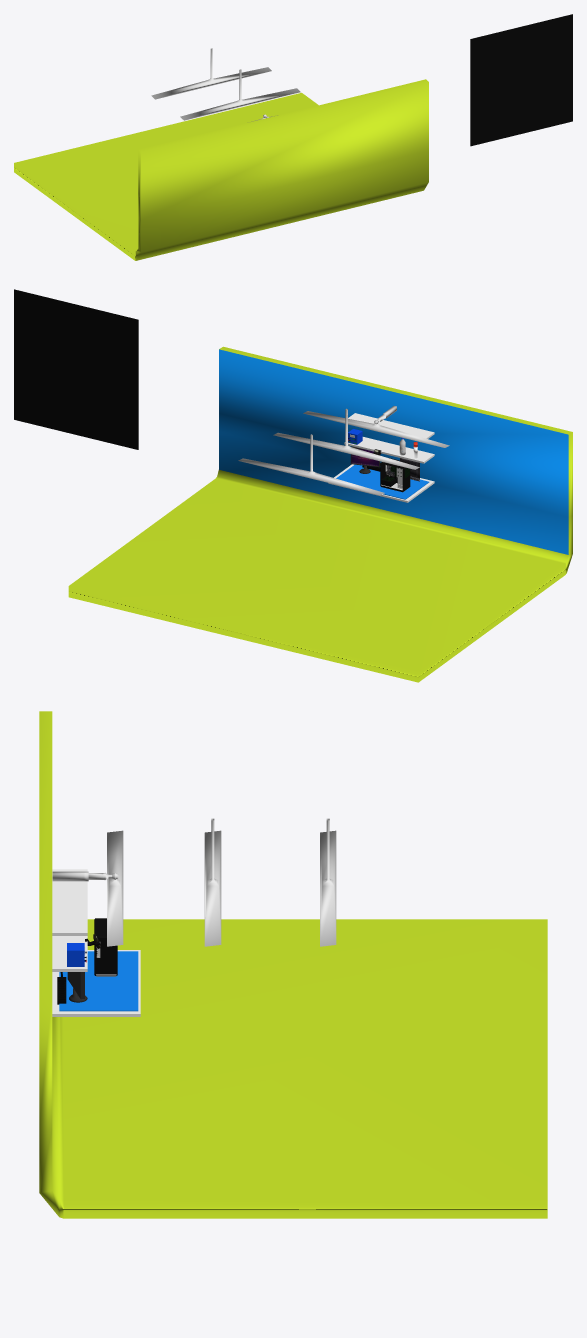
3 views of the same model, one above another, from view 1: azimuth 30°, elevation 25°; view 2: azimuth 150°, elevation 25°; view 3: azimuth 270°, elevation 25° (orthographic). The views are drawn at different scales.
Visible parts, largest first — view 1: Cube, Cube.021, Cube.016, Cube.007; view 2: Cube, Cube.021, Cube.006, Cube.011, Cube.007, Cube.016, Cube.002, Cube.003; view 3: Cube, Cube.006, Cube.011, Cube.016, Cube.003, Cube.007, Cube.001, Cube.002.
Boxes of the visible parts, box(x1,y1,x2,y2) form: Cube: box(14, 79, 428, 260); Cube.021: box(470, 14, 572, 146); Cube.016: box(180, 69, 300, 120); Cube.007: box(151, 48, 271, 99); Cube: box(68, 346, 572, 682); Cube.021: box(14, 289, 387, 479); Cube.006: box(336, 464, 429, 499); Cube.011: box(303, 406, 449, 447); Cube.007: box(238, 434, 384, 495); Cube.016: box(273, 408, 419, 469); Cube.002: box(344, 437, 434, 463); Cube.003: box(348, 413, 434, 438); Cube: box(39, 711, 547, 1218); Cube.006: box(59, 951, 138, 1011); Cube.011: box(52, 830, 123, 946); Cube.016: box(204, 818, 221, 946); Cube.003: box(52, 869, 87, 935); Cube.007: box(320, 818, 336, 946); Cube.001: box(52, 950, 140, 1016); Cube.002: box(52, 936, 87, 971).
Bounding box in the file's own units: 869 × 246 × 429.
